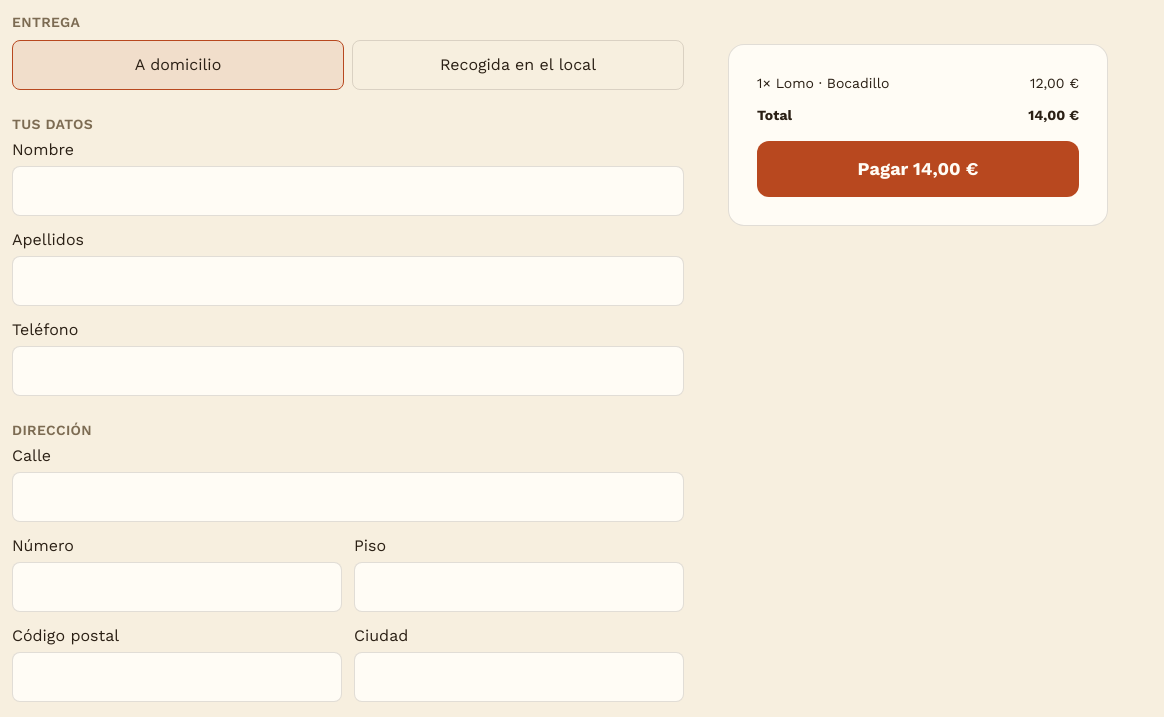
Test case: FormularioCheckout › reactiva el botón de pagar y avisa si el envío falla por un error de red
The width and height of the screenshot is (1164, 717).
Click the button "Recogida en el local" at [518, 65], box [352, 40, 684, 90]
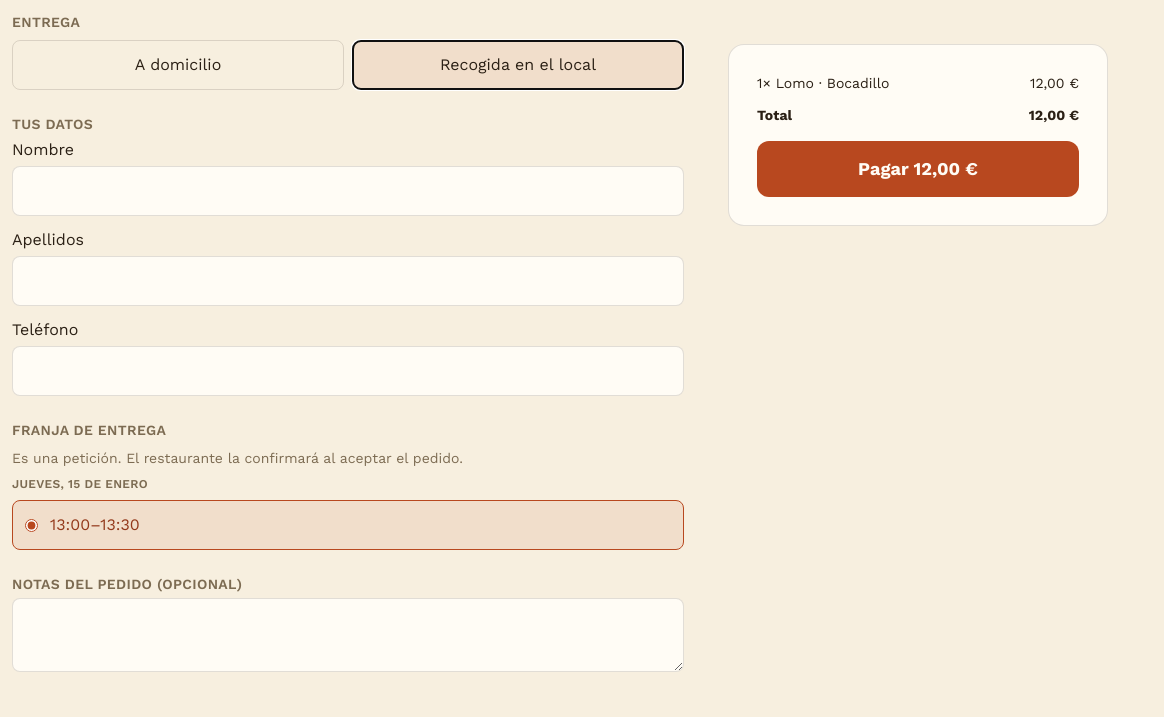
Type "Ana" into the field labelled "Nombre" at [348, 191], box [12, 166, 684, 216]
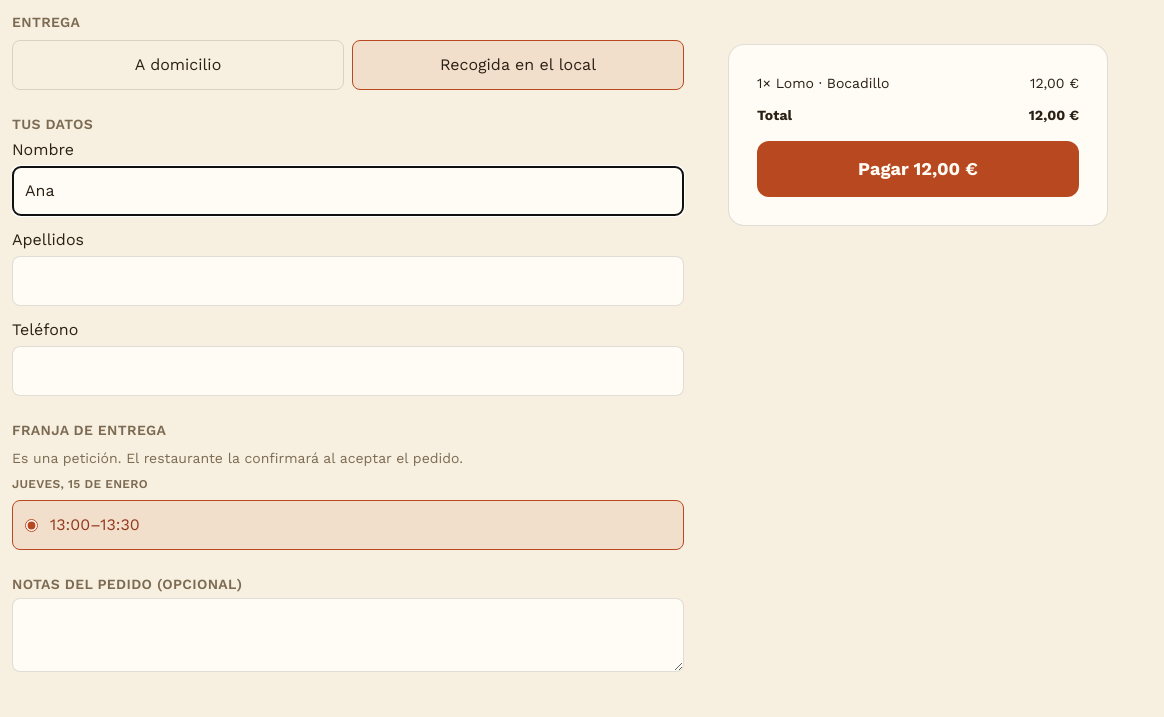
Type "García" into the field labelled "Apellidos" at [348, 281], box [12, 256, 684, 306]
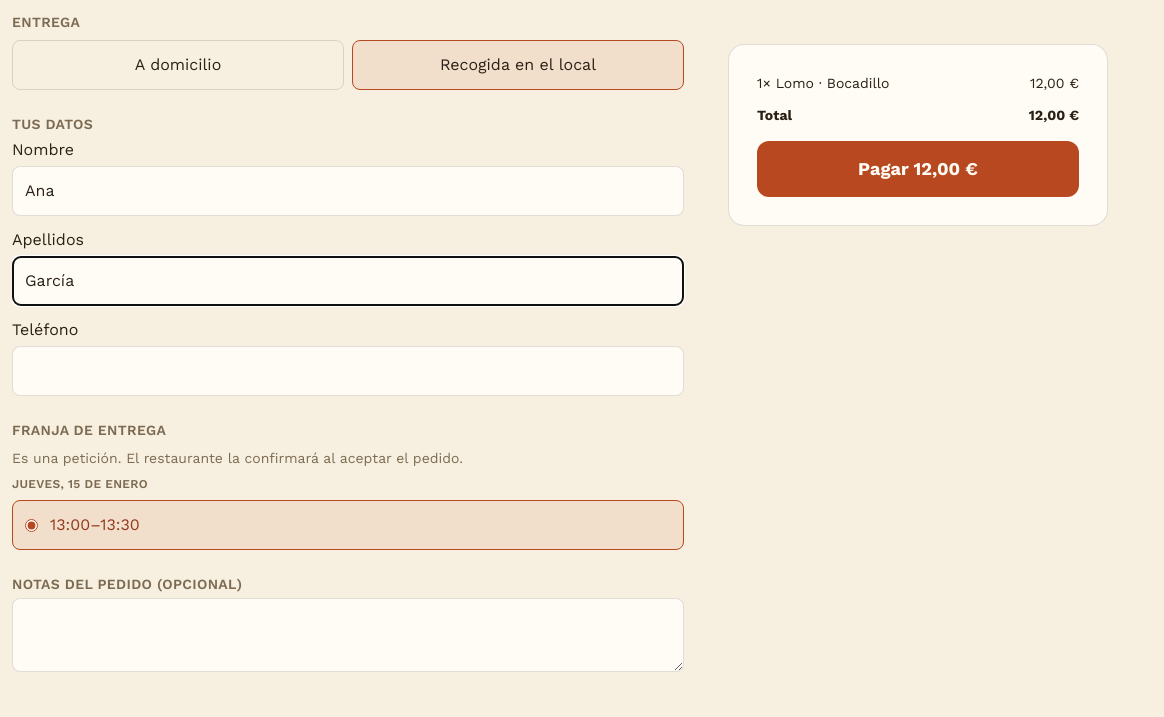
Type "600111222" into the field labelled "Teléfono" at [348, 371], box [12, 346, 684, 396]
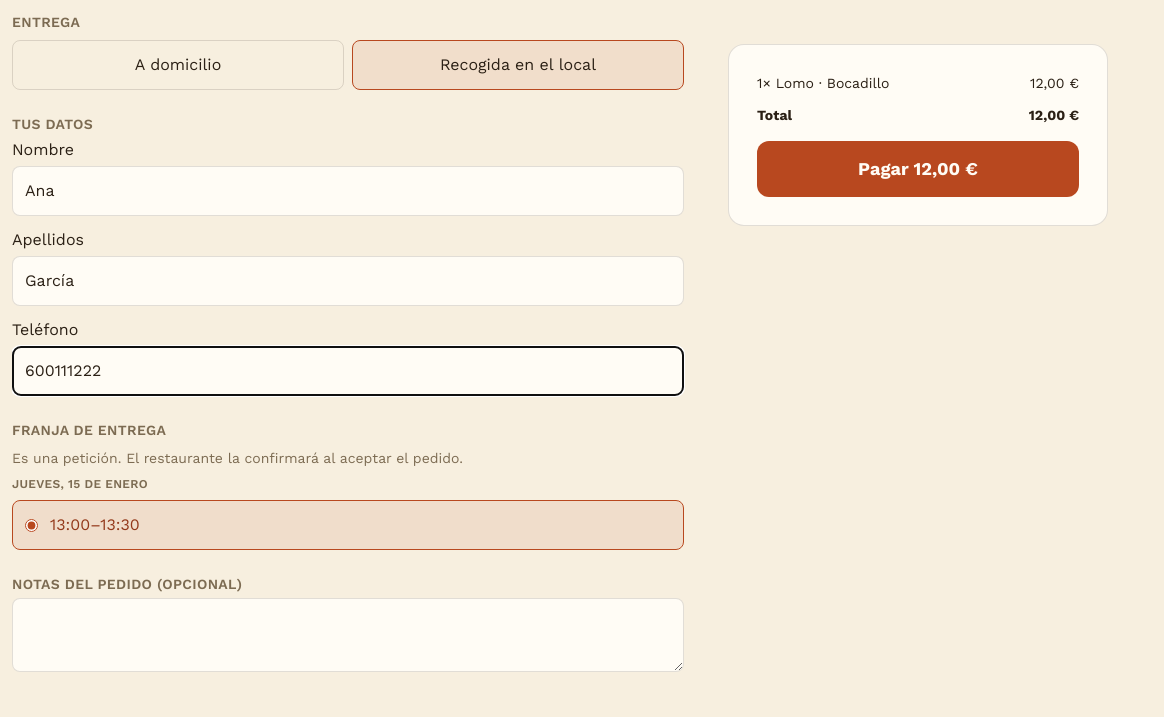
Click the button "Pagar 12,00 €" at [918, 169], box [757, 141, 1079, 197]
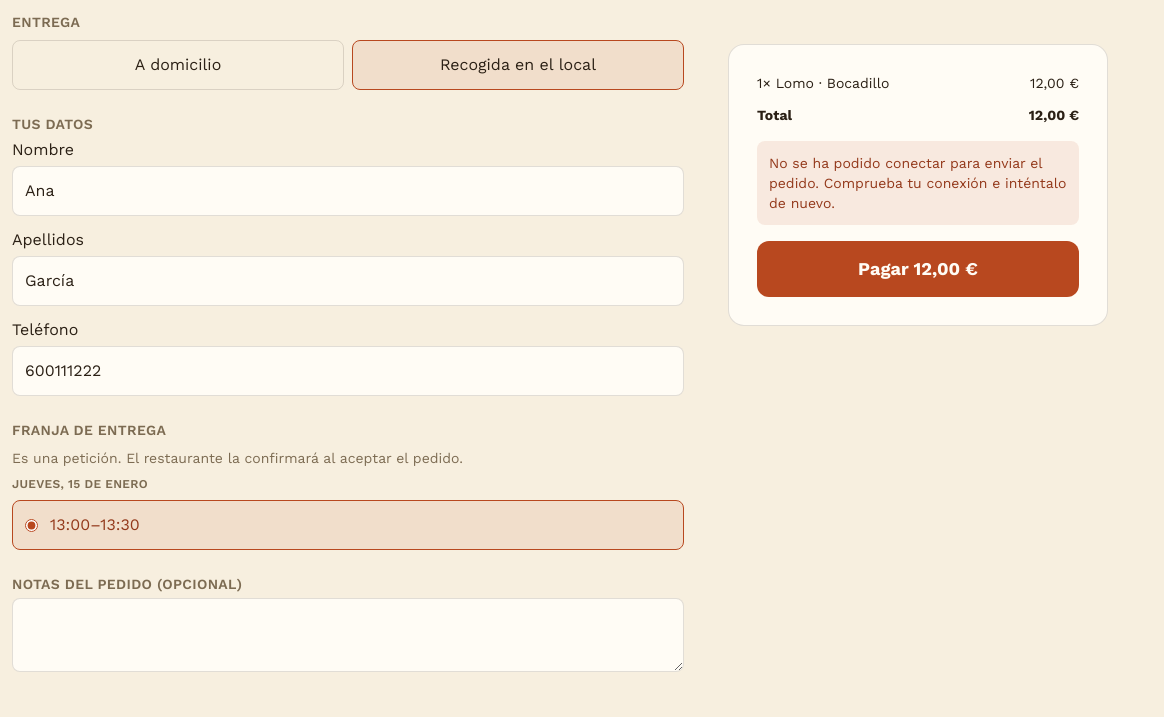
Expected: the button "Pagar 12,00 €" is enabled, [757, 241, 1079, 297]
Result: the text "No se ha podido conectar" is shown at [769, 155, 1066, 211]
